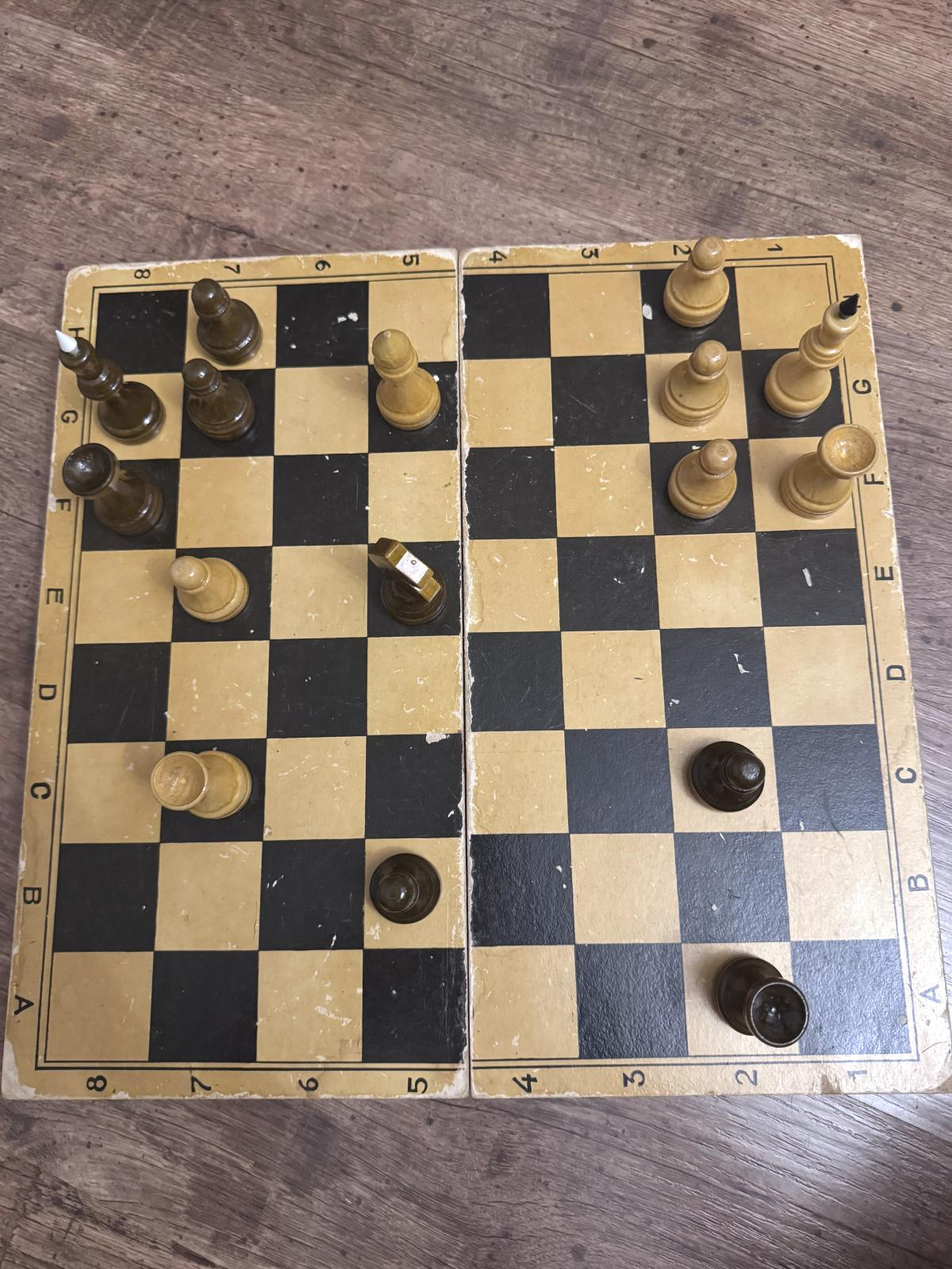Chess-Board: (45, 264, 910, 1061)
